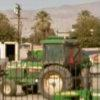Tractor: (7, 35, 93, 94)
